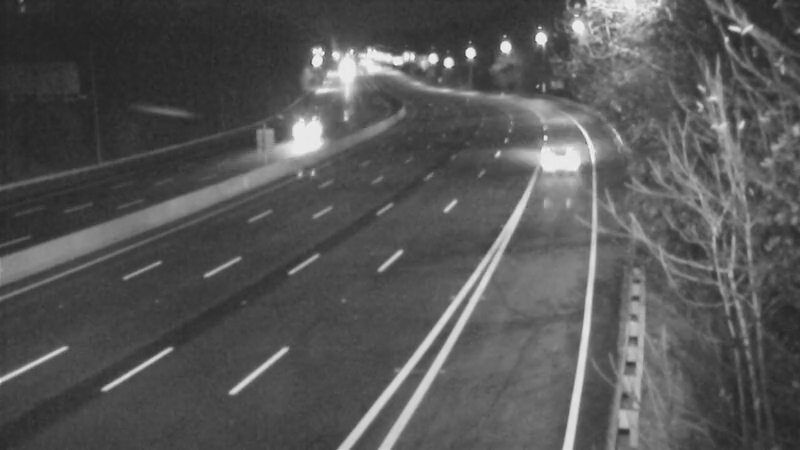vehicle: (510, 118, 590, 198), (283, 107, 333, 157)
